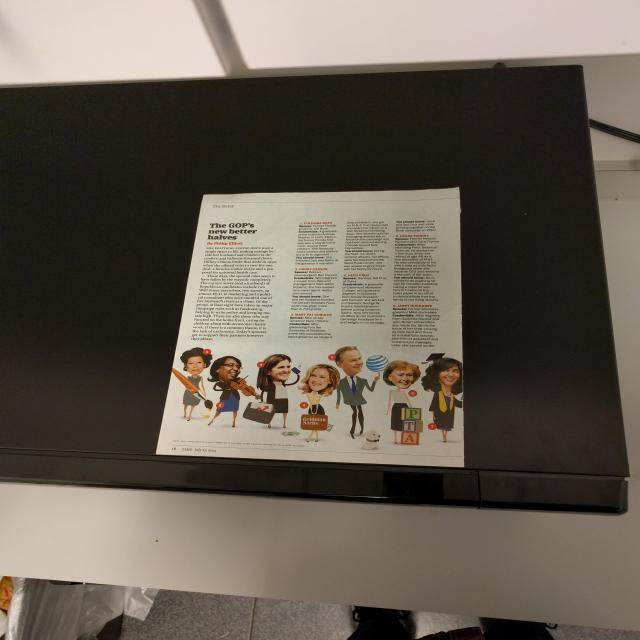document: (157, 188, 465, 468)
